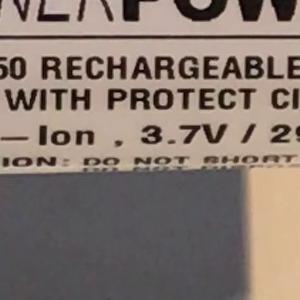3.7V: (131, 114, 238, 154)
